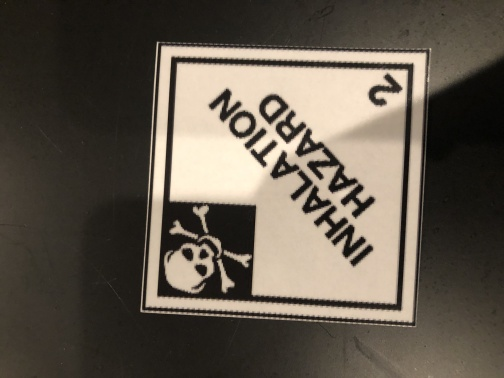InhalationHazard: (140, 38, 431, 328)
